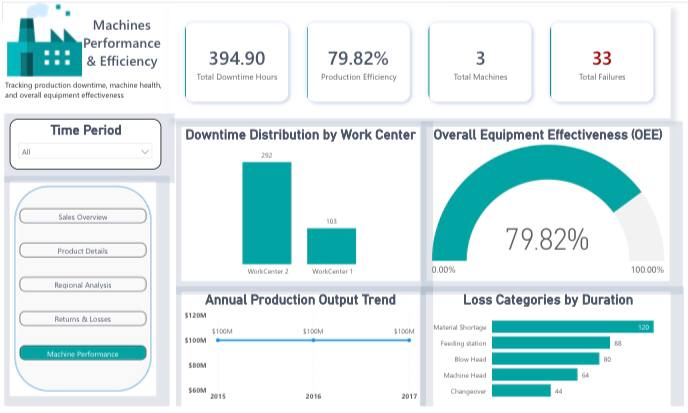

This screenshot's page, from the dashboard's own definition file:
{"tool":"powerbi","page":{"name":"Machine Performance","canvas":[1280,720],"ordinal":4},"visuals":[{"type":"cardVisual","fields":{"Data":["_Measures.Total Downtime Hours","_Measures.Production Efficiency","_Measures.Total Machines","_Measures.Total Failures"]},"box":[296.2,7.1,894.3,199.8],"z":0},{"type":"textbox","box":[0,133.2,296.2,66.6],"z":1000},{"type":"textbox","box":[130.4,0,165.8,146],"z":2000},{"type":"gauge","title":"Overall Equipment Effectiveness (OEE)","fields":{"Y":["_Measures.Production Efficiency"],"TargetValue":["CountNonNull(Dim_Machines.Efficiency Target)"]},"box":[755.9,221.7,433.4,275.5],"z":3000},{"type":"clusteredColumnChart","title":"Downtime Distribution by Work Center","fields":{"Category":["Dim_Machines.Work Center"],"Y":["_Measures.Total Downtime Hours"]},"box":[319.2,221.7,425,275.5],"z":4000},{"type":"lineChart","title":"Annual Production Output Trend ","fields":{"Category":["Dim_Calendar.Date.Variation.Date Hierarchy.Year","Dim_Calendar.Date.Variation.Date Hierarchy.Quarter","Dim_Calendar.Date.Variation.Date Hierarchy.Month","Dim_Calendar.Date.Variation.Date Hierarchy.Day"],"Y":["_Measures.Actual Qty"]},"box":[318.9,515.9,425.2,204.1],"z":5000},{"type":"clusteredBarChart","title":"Loss Categories by Duration","fields":{"Category":["Fact_Downtimes.Downtime"],"Y":["Sum(Fact_Downtimes.Duration)"]},"box":[755.4,515.9,435.1,204.1],"z":6000},{"type":"group","id":"g1","title":"Group 1","box":[12.8,318.9,260.8,382.7],"z":7000},{"type":"shape","title":"Navigation","box":[12.8,318.9,260.8,382.7],"z":7000,"group":"g1"},{"type":"slicer","title":"Time Period","fields":{"Values":["Dim_Territories.Region"]},"box":[12.8,208.3,270.7,89.3],"z":8000},{"type":"pageNavigator","box":[22.7,360,240.9,286.3],"z":8000,"group":"g1"},{"type":"image","box":[0,0,148.6,132.9],"z":9000}]}

Visuals, with their boxes on the page's 1280x720 design canvas (x1, y1, x2, y2). These are canvas units, not pixel positions in the 688x413 screenshot, which may show the page scaled, cropped or inside an application window:
cardVisual - _Measures.Total Downtime Hours x _Measures.Production Efficiency: box=[296, 7, 1190, 207]
textbox: box=[0, 133, 296, 200]
textbox: box=[130, 0, 296, 146]
"Overall Equipment Effectiveness (OEE)" gauge: box=[756, 222, 1189, 497]
"Downtime Distribution by Work Center" clusteredColumnChart: box=[319, 222, 744, 497]
"Annual Production Output Trend " lineChart: box=[319, 516, 744, 720]
"Loss Categories by Duration" clusteredBarChart: box=[755, 516, 1190, 720]
"Group 1" group: box=[13, 319, 274, 702]
"Navigation" shape: box=[13, 319, 274, 702]
"Time Period" slicer: box=[13, 208, 284, 298]
pageNavigator: box=[23, 360, 264, 646]
image: box=[0, 0, 149, 133]
